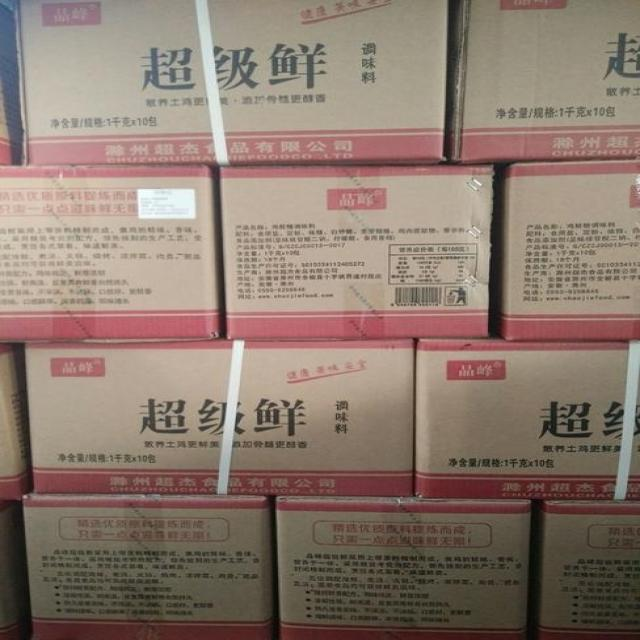box: (12, 0, 451, 166), (20, 338, 414, 497), (213, 162, 496, 340), (0, 164, 225, 340), (21, 489, 275, 639), (274, 495, 537, 638), (414, 337, 639, 500), (449, 0, 639, 162), (488, 157, 639, 342), (533, 499, 639, 638)
